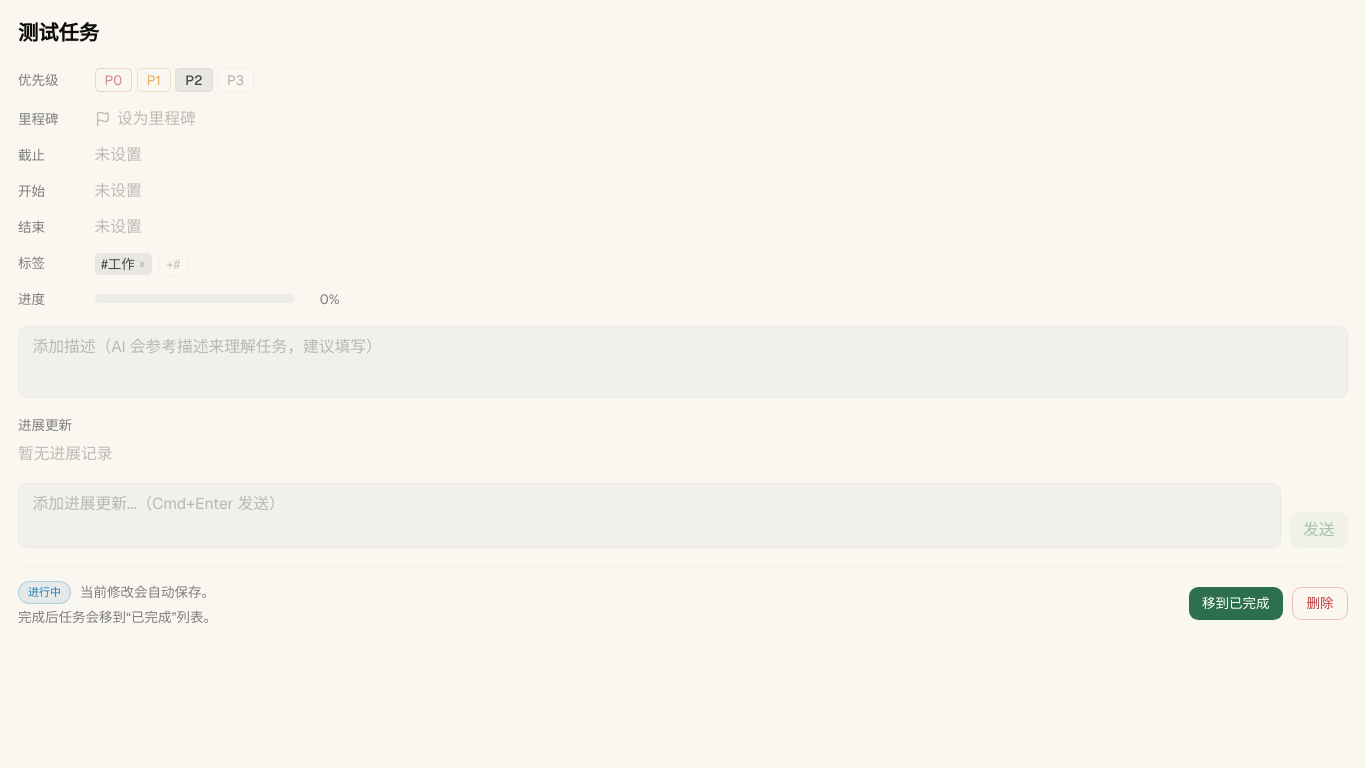
Scenario: TaskDetail 删除确认 › 点击删除按钮应弹出确认对话框
The image size is (1366, 768).
Click the button "删除": {"x": 1320, "y": 603} [1292,587,1348,620]
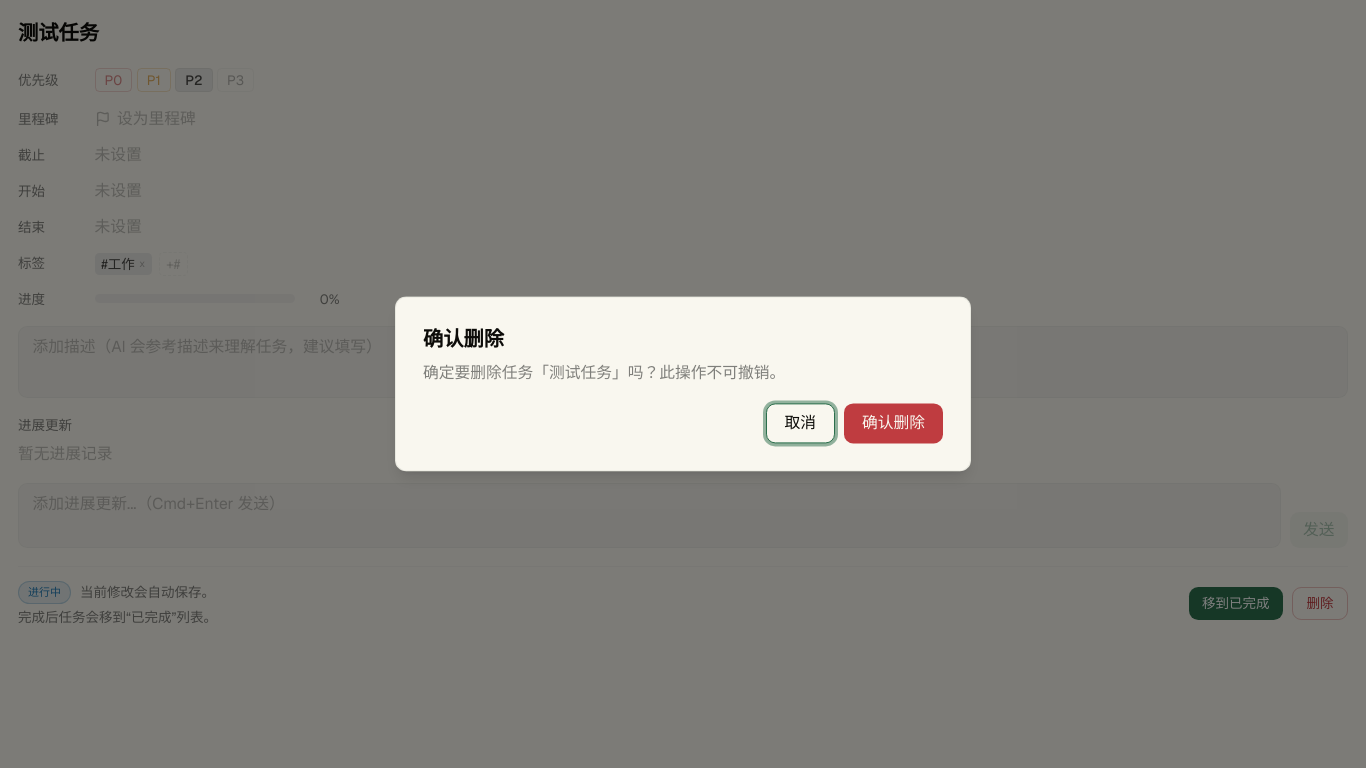
Check: the dialog is shown, box [395,296,971,472]
